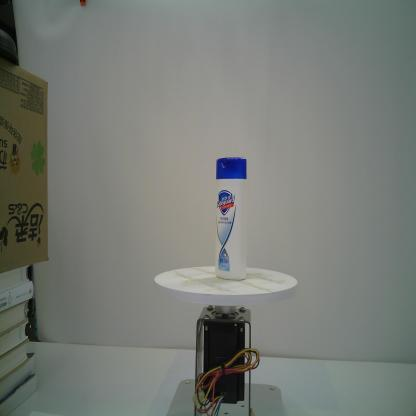Personal Hygiene: (214, 156, 247, 282)
